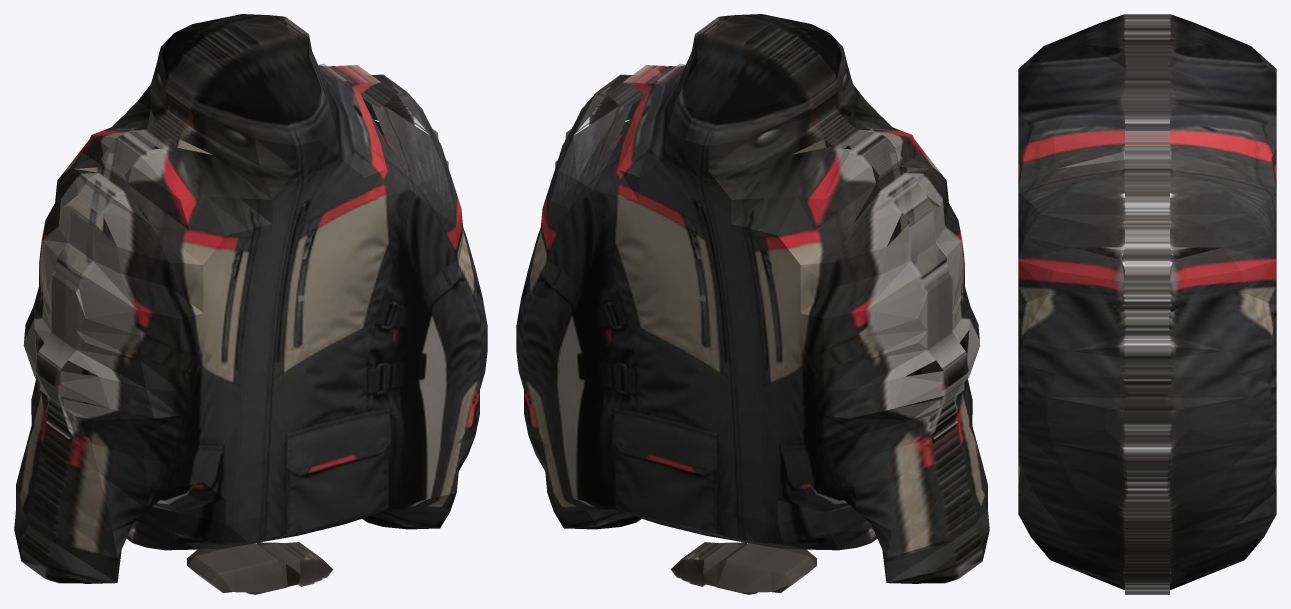
The model's file is klim-circuit-textile-jacket-011.glb.
3 renders of one model, left to right at view 1: azimuth 30°, elevation 25°; view 2: azimuth 150°, elevation 25°; view 3: azimuth 270°, elevation 25°, orthographic. The views are drawn at different scales.
Visible parts, largest first — view 1: world; view 2: world; view 3: world.
Boxes of the visible parts, left/top/right/bottom form: world: left=14, top=14, right=487, bottom=594; world: left=516, top=14, right=989, bottom=594; world: left=1018, top=14, right=1276, bottom=594.
Size of the model in its own units: 0.8092 by 1 by 0.44.
Materials: 1 (1 with a texture image).
